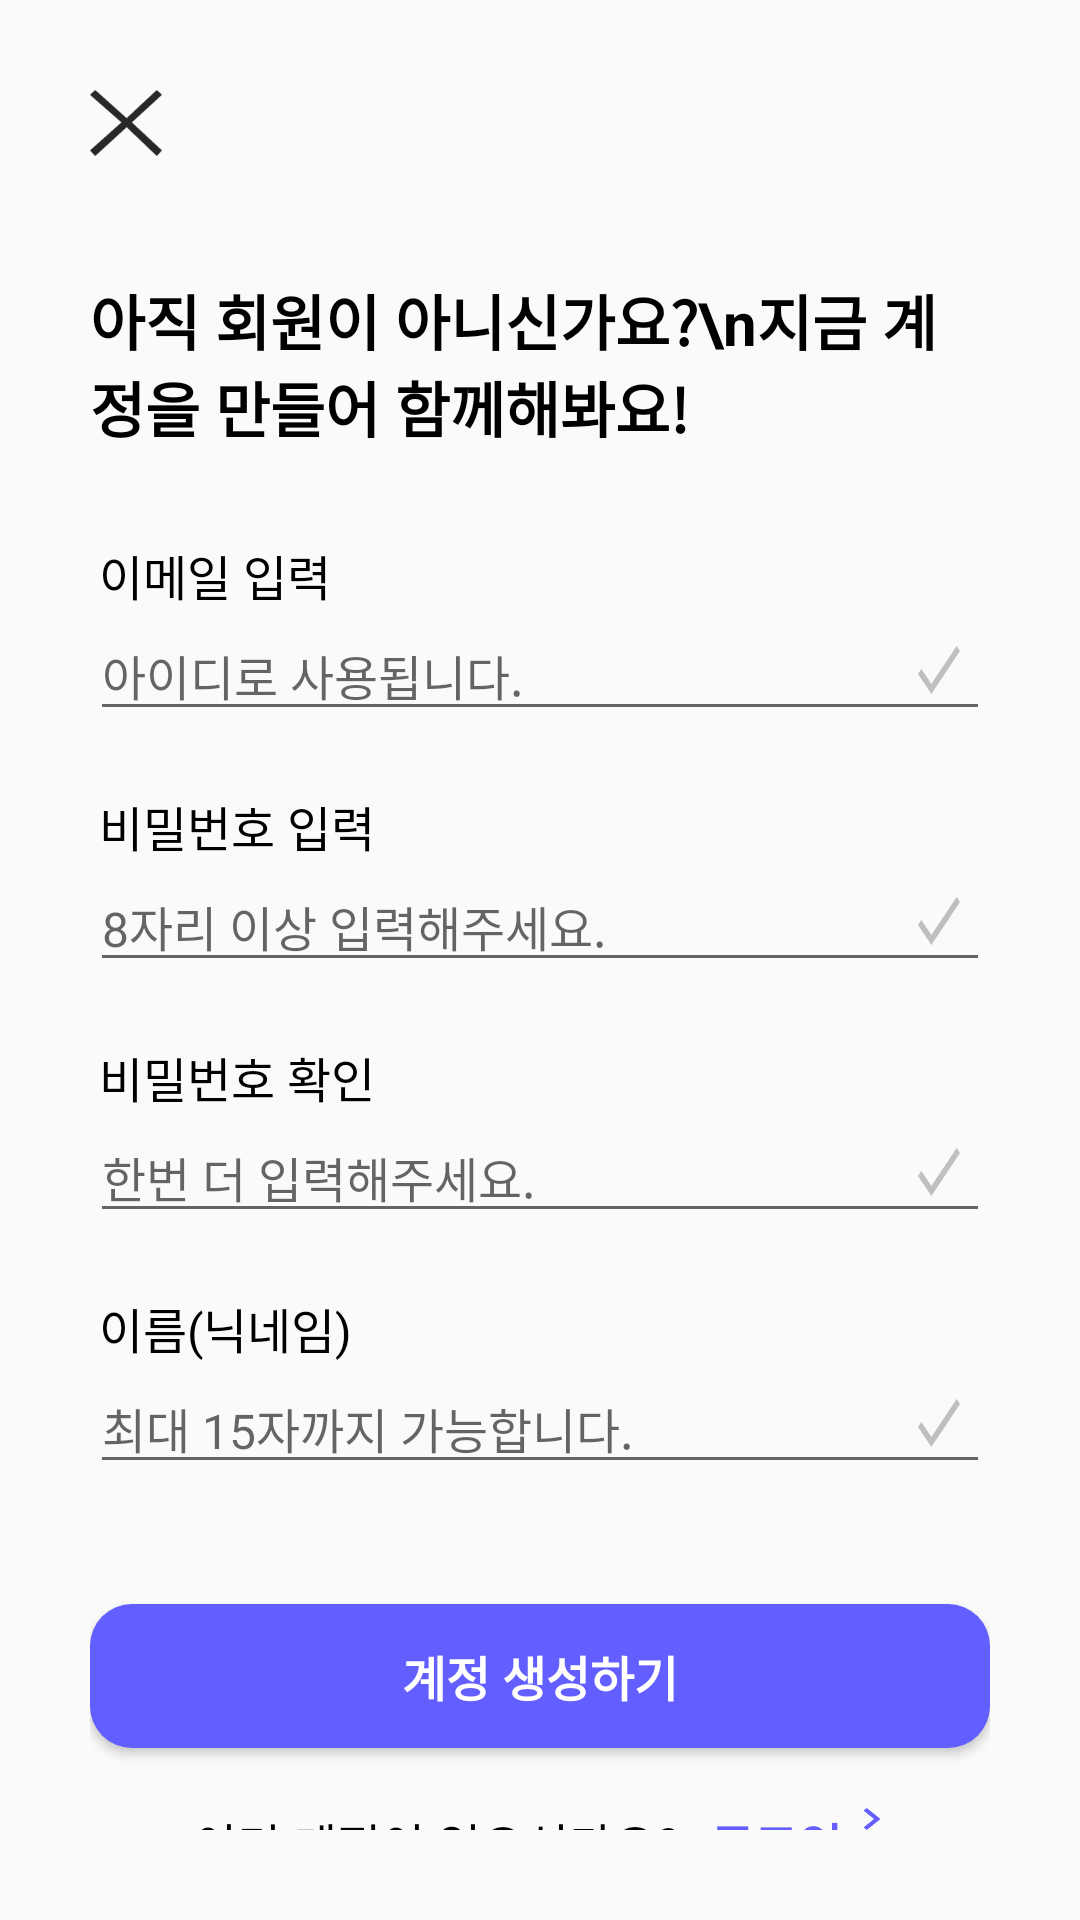

Locate icon controls on the screen. Image size 1080px×1920px, boxes as box(x1, y1, x2, y2).
uncheckright: box(918, 646, 960, 694), box(918, 897, 960, 945), box(918, 1148, 960, 1196), box(918, 1399, 960, 1447)
